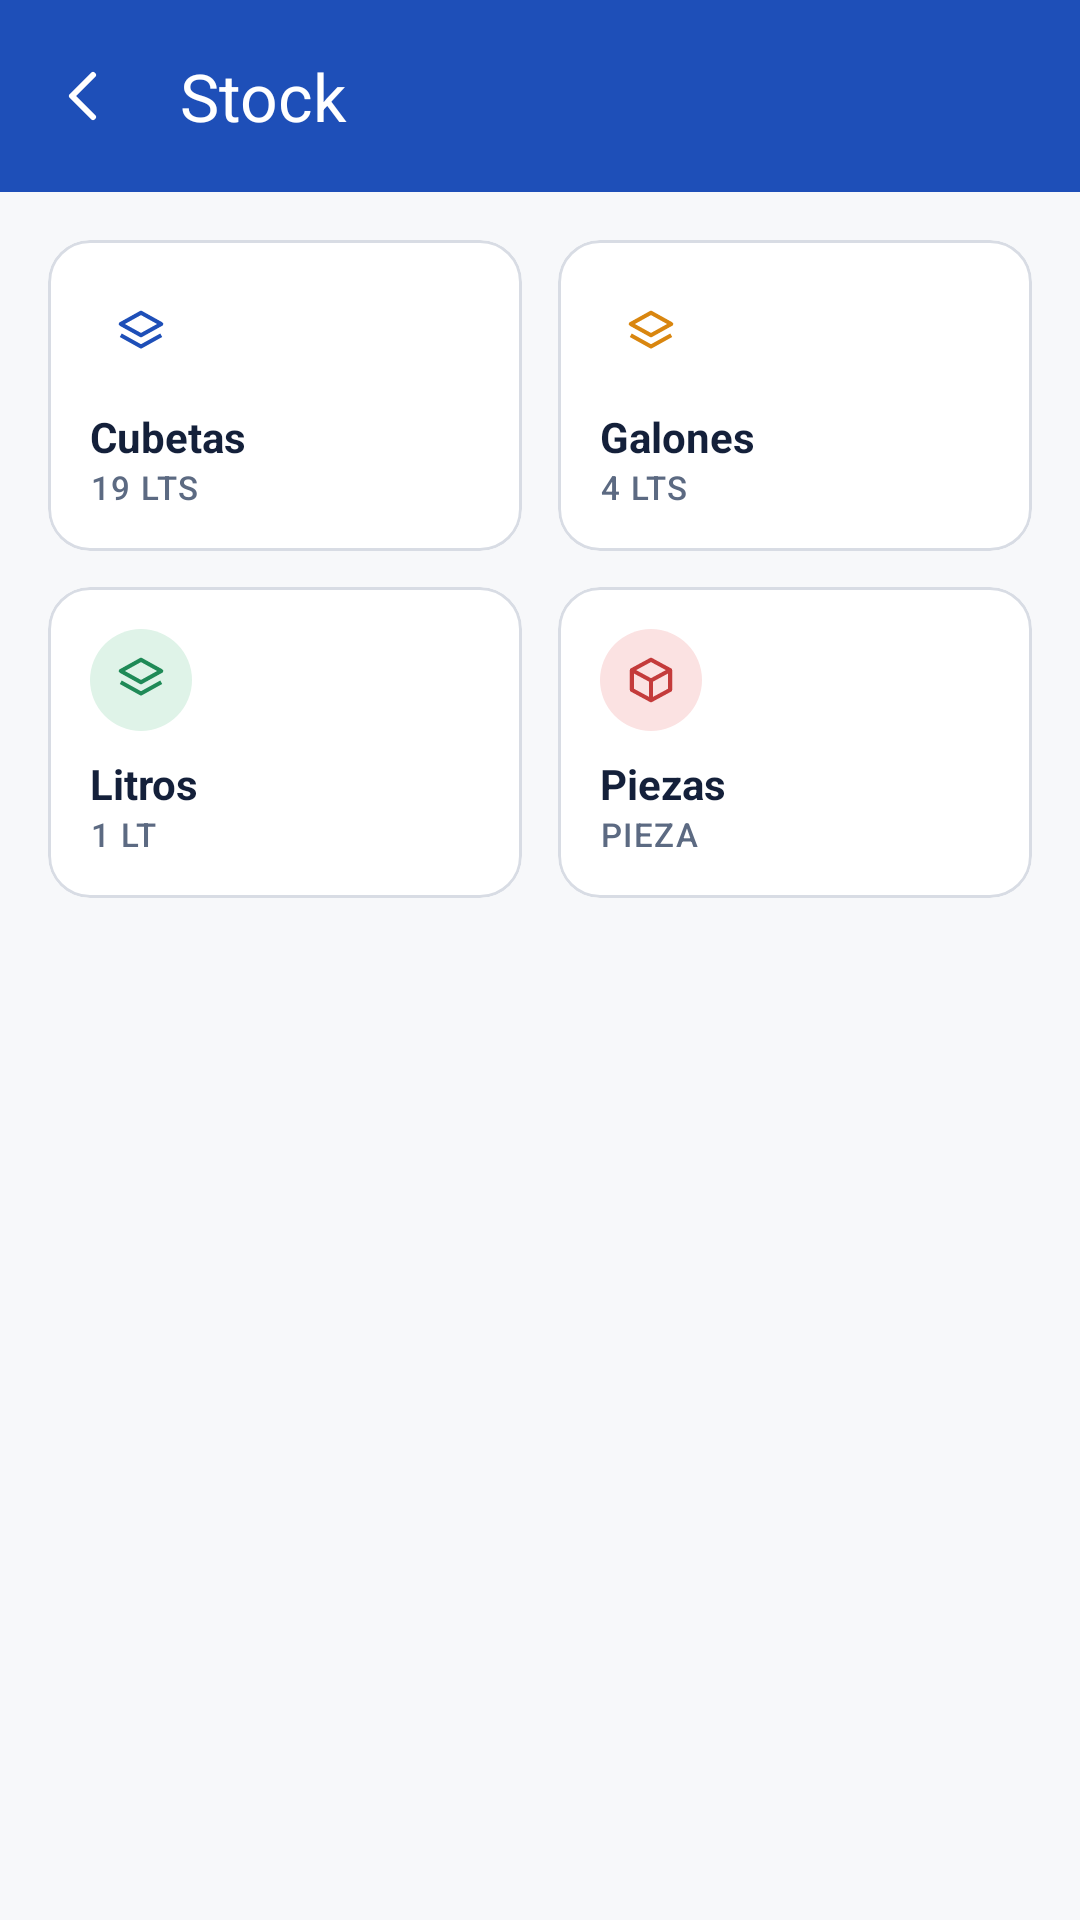

Icon bounding boxes for this 1080*1920 phone screenshot, format (x1, y1, x2, y2):
box: (600, 629, 702, 731)
layers: (118, 310, 164, 349), (628, 310, 674, 349), (90, 629, 192, 731)
